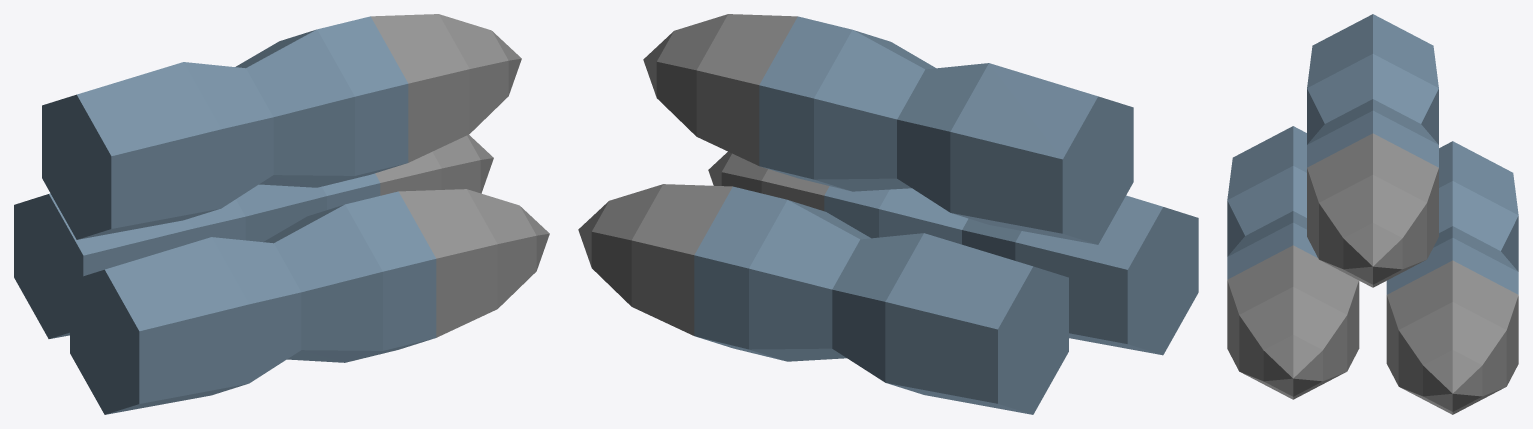
Rendered from item_shell_emp_b.obj.
3 views of the same model, side by side, from view 1: azimuth 30°, elevation 25°; view 2: azimuth 150°, elevation 25°; view 3: azimuth 270°, elevation 25° (orthographic). The views are drawn at different scales.
Size of the model in its own units: 0.729 by 0.4283 by 0.439.
